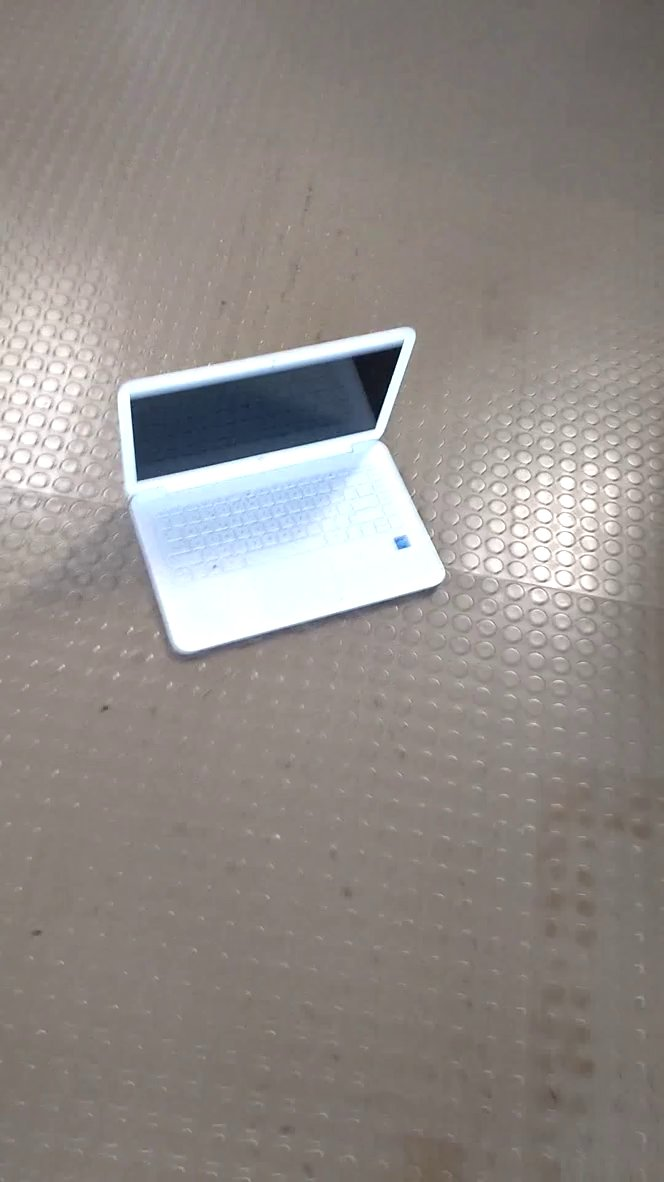laptop: (113, 317, 452, 670)
